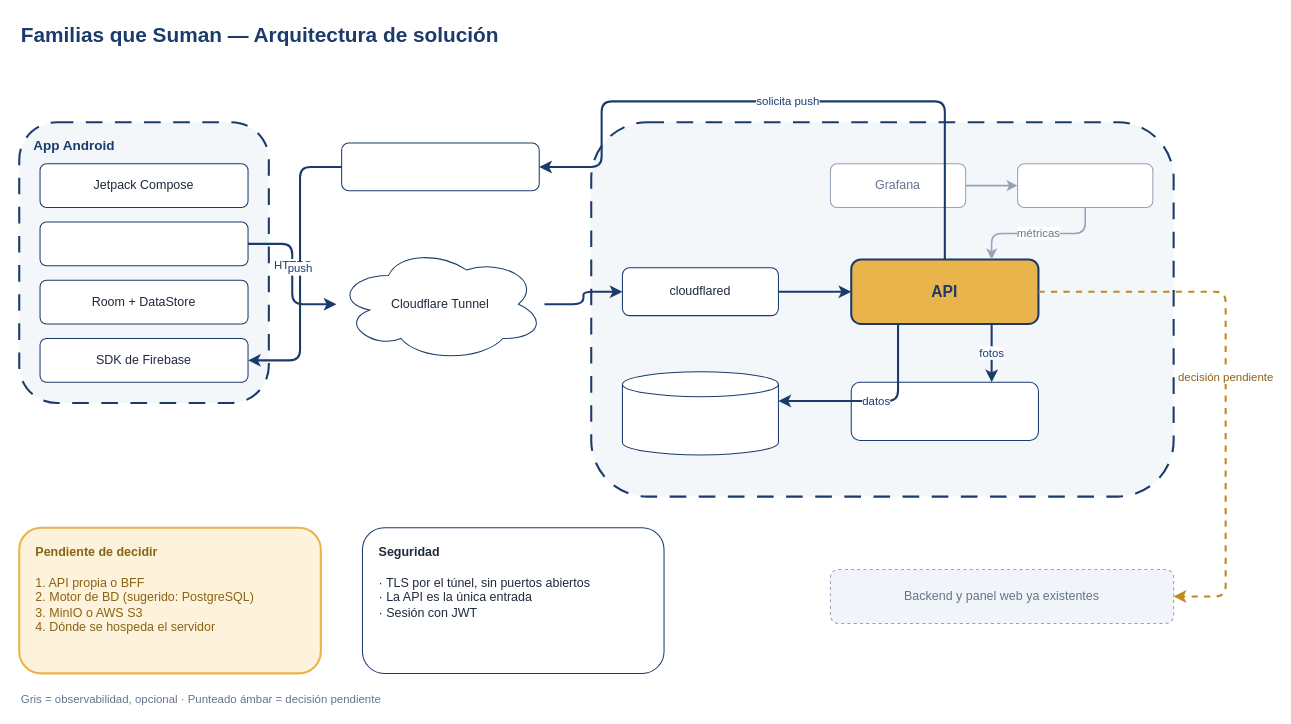
This 1291x724 diagram has some shape labels left out. The box of each missing label's shape, as (x1, y1, x2, y2) in pixels:
Almacenamiento de fotos: (850, 381, 1038, 440)
Base de datos: (621, 371, 778, 455)
Firebase Messaging: (341, 142, 539, 191)
Prometheus: (1017, 163, 1153, 207)
Retrofit: (39, 221, 248, 266)
Servidor · Docker: (590, 121, 1174, 497)
